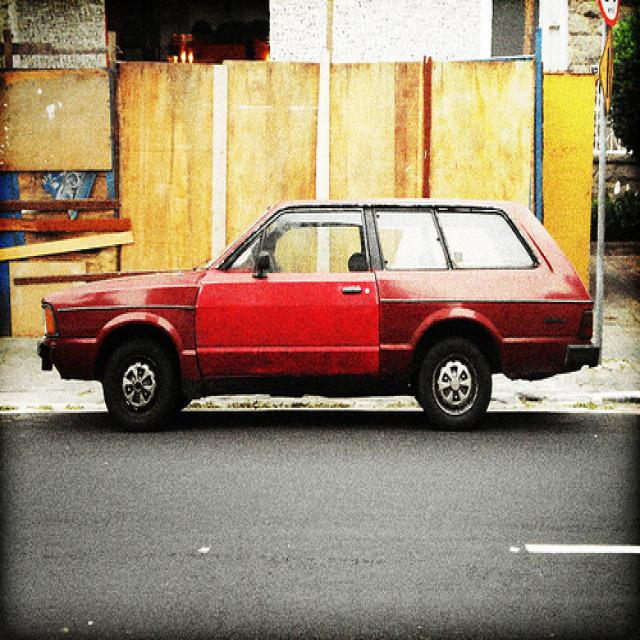Car: (28, 189, 598, 439)
